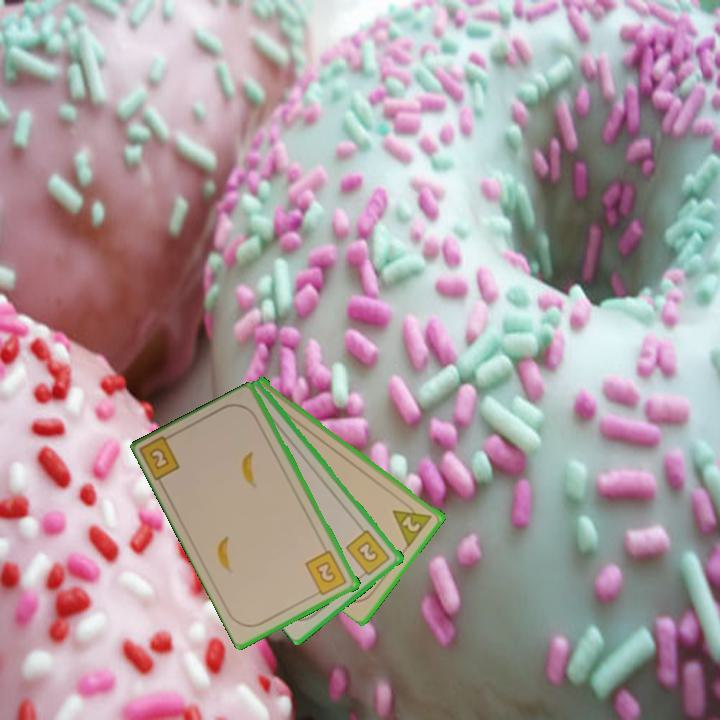2b: (343, 526, 393, 581), (302, 547, 350, 599), (138, 429, 183, 484)
2p: (389, 497, 436, 549)
